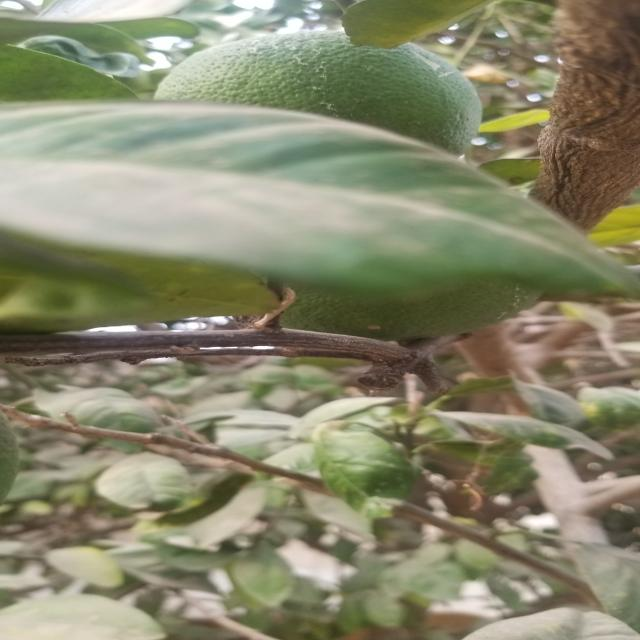Unripe: (163, 40, 487, 158)
